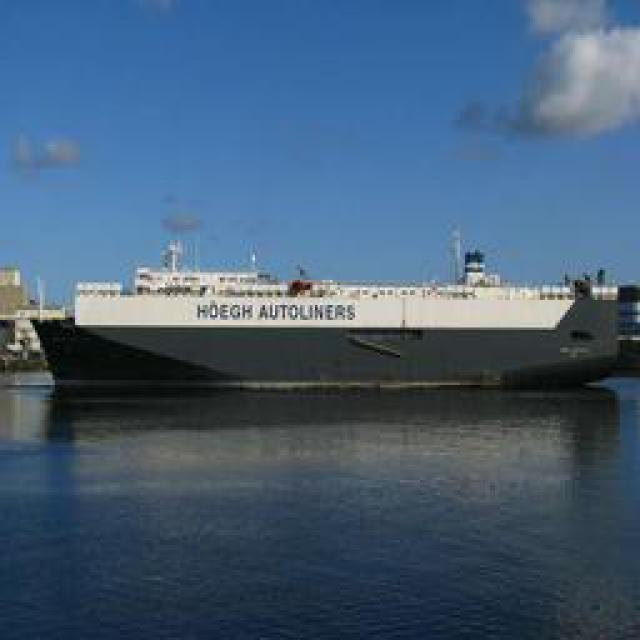Ship: (34, 203, 629, 391)
